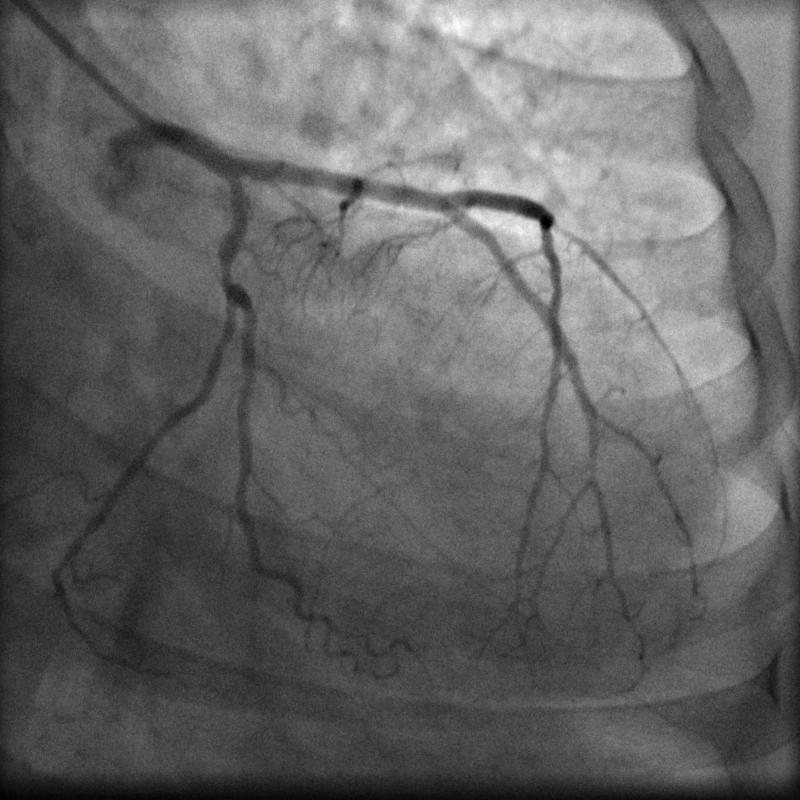Stenosis: (212, 245, 240, 288)
